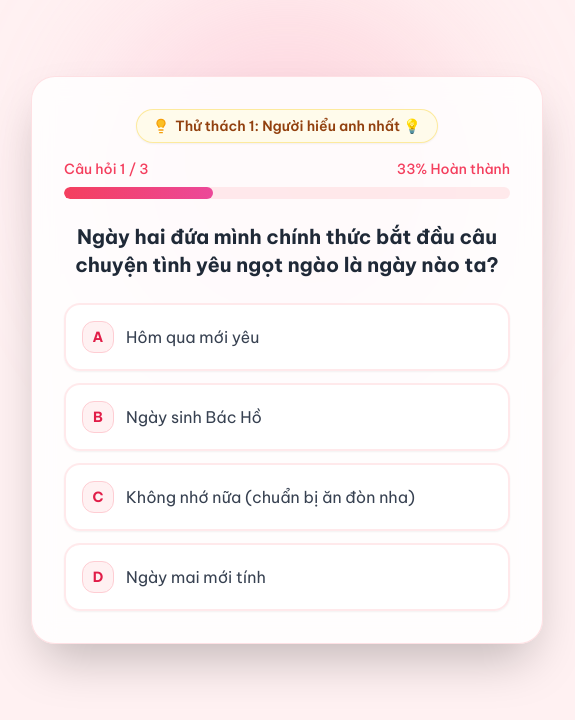
Test case: QuizScreen Component › handles wrong answer: plays soundPop, highlights option, shakes, and shows humorous wrongMessage banner
Click the button with test id "quiz-option-0": (98,337) [64, 303, 510, 371]
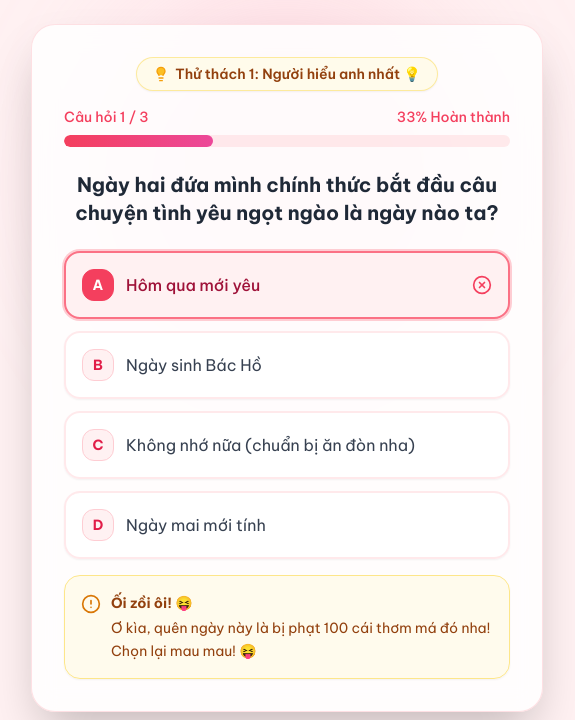
expect the message with test id "wrong-message" is shown: met, box [64, 575, 510, 679]
